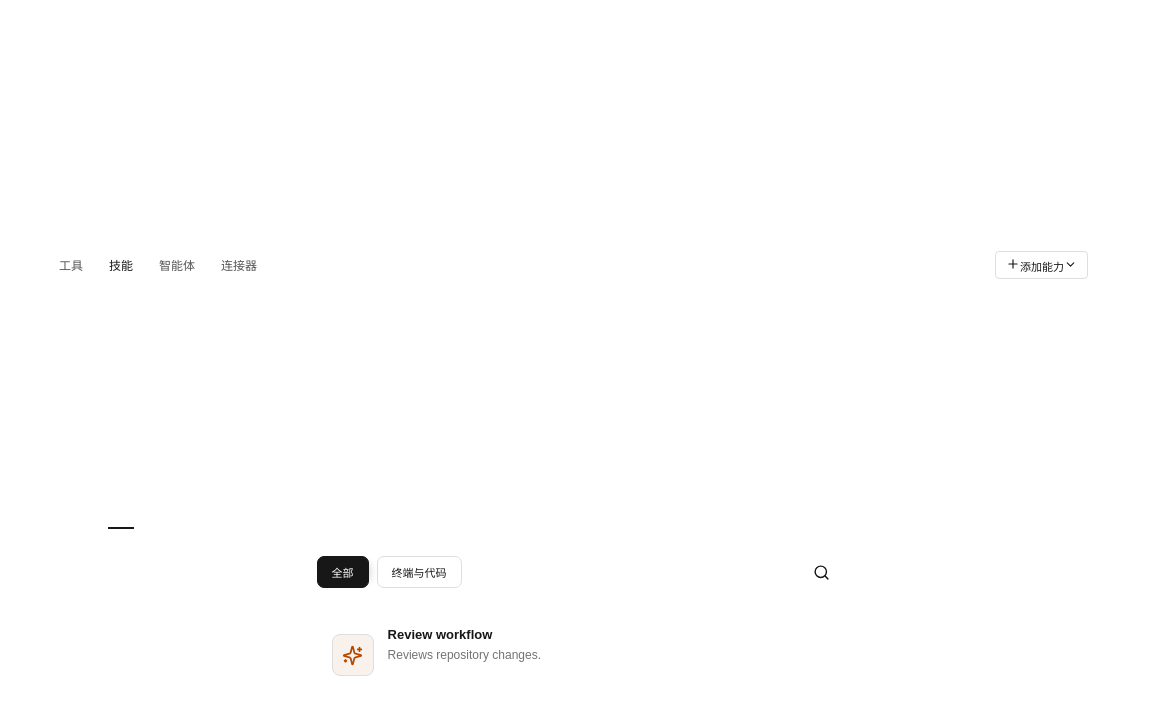
Test case: CapabilitiesPage › shows Skill dependency issues in the product Skill detail
Click the button "Review workflow" at [436, 652], box [332,627,541,676]
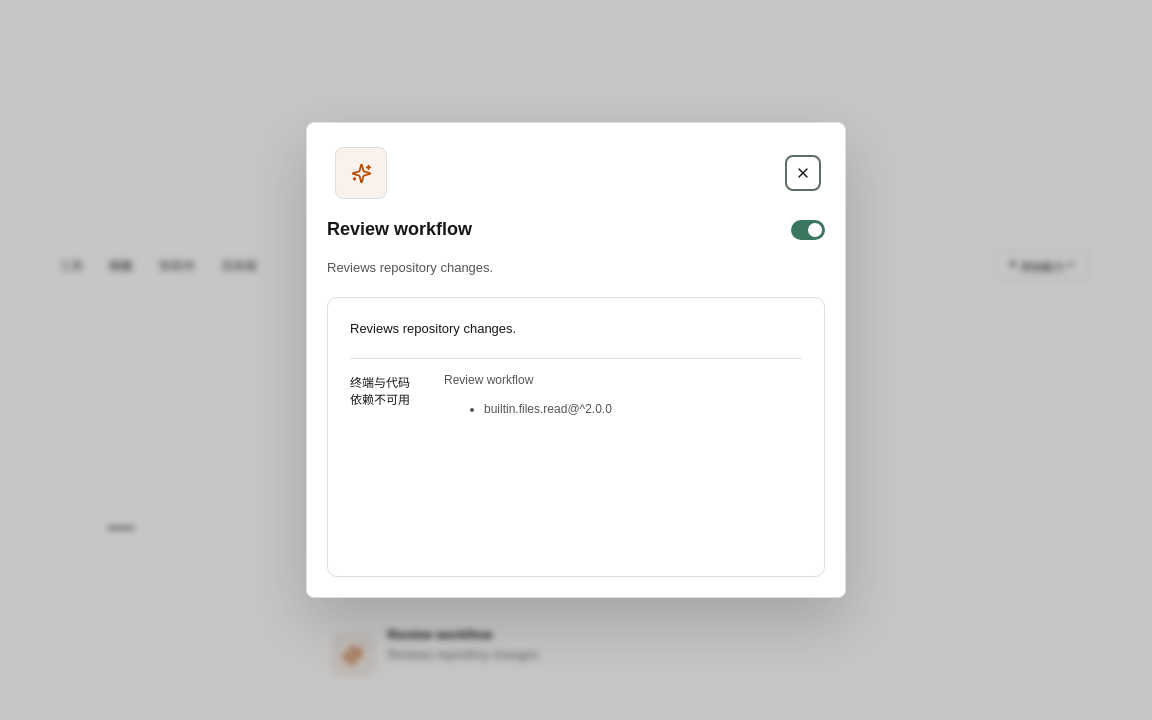
Result: the text "依赖不可用" is shown at [350,393,410,407]
Result: the list item "builtin.files.read@^2.0.0" is shown at [484,402,612,416]
